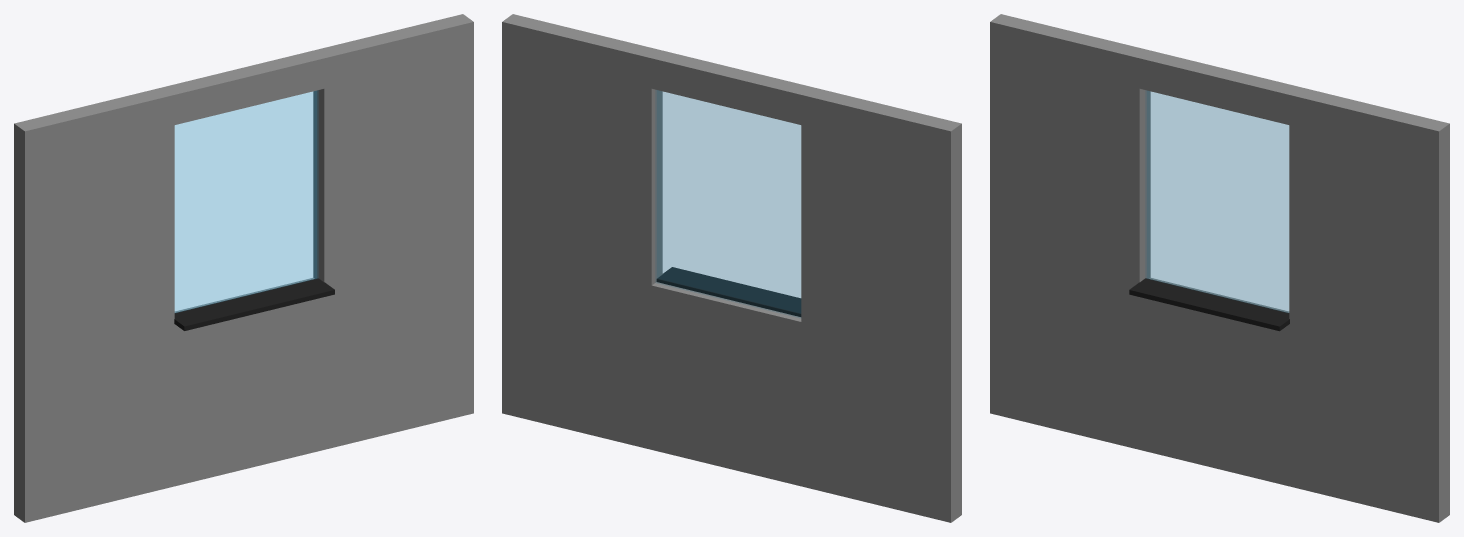
The model's file is SM_wall_stationshop_01.fbx.
3 views of the same model, side by side, from view 1: azimuth 30°, elevation 25°; view 2: azimuth 150°, elevation 25°; view 3: azimuth 330°, elevation 25° (orthographic).
Parts seen in each view (by area): view 1: wall_stationshop_01; view 2: wall_stationshop_01; view 3: wall_stationshop_01.
Boxes of the visible parts, x1,y1,x2,y2 form: wall_stationshop_01: [14, 14, 473, 522]; wall_stationshop_01: [502, 14, 961, 522]; wall_stationshop_01: [990, 14, 1449, 522].
Bounding box in the file's own units: 300 × 250 × 24.32.
